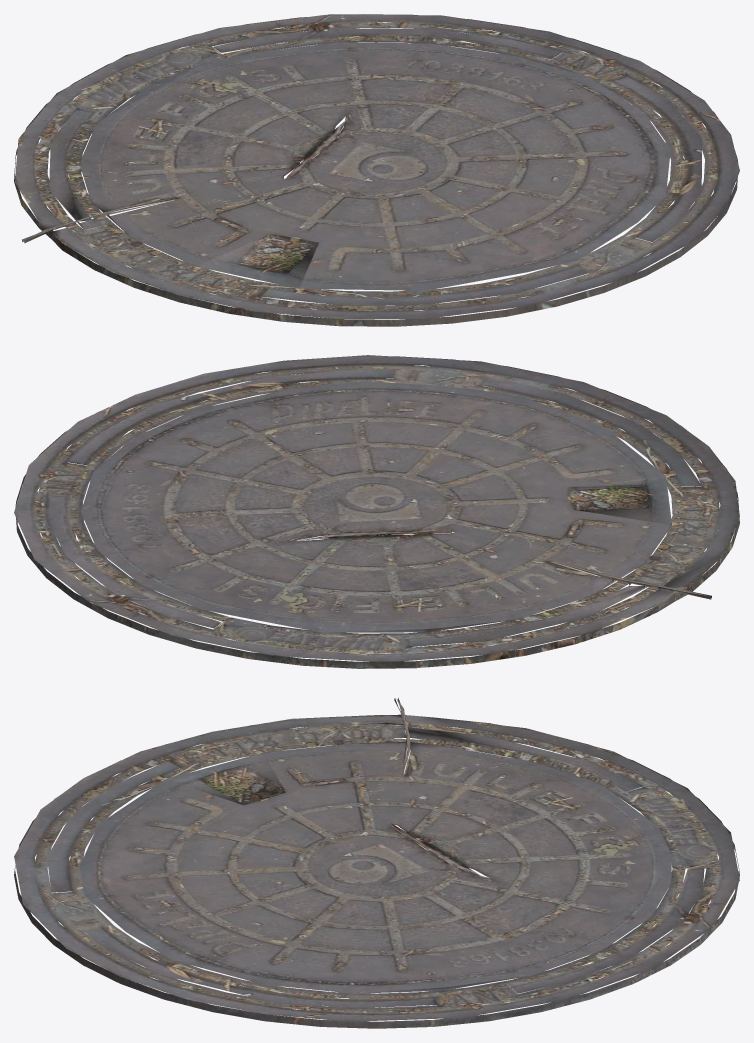
File: tombino.glb
3 views of the same model, one above another, from view 1: azimuth 30°, elevation 25°; view 2: azimuth 150°, elevation 25°; view 3: azimuth 270°, elevation 25° (orthographic).
Visible parts, largest first — view 1: Manhole; view 2: Manhole; view 3: Manhole.
Part boxes in pixels (bbox=[...]): Manhole: bbox=[14, 14, 739, 326]; Manhole: bbox=[14, 355, 739, 668]; Manhole: bbox=[14, 697, 739, 1028].
Bounding box in the file's own units: 1.13 × 0.0204 × 1.08.
1 material, 1 textured.
